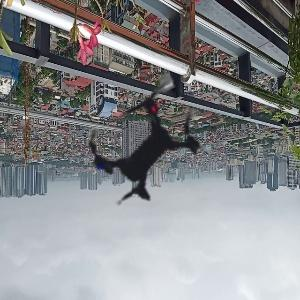drone: (41, 40, 248, 247)
